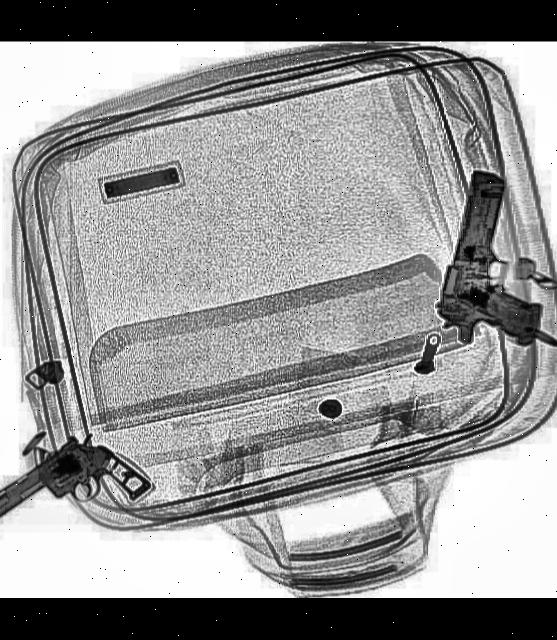Gun: (0, 413, 156, 577), (428, 167, 557, 358)
